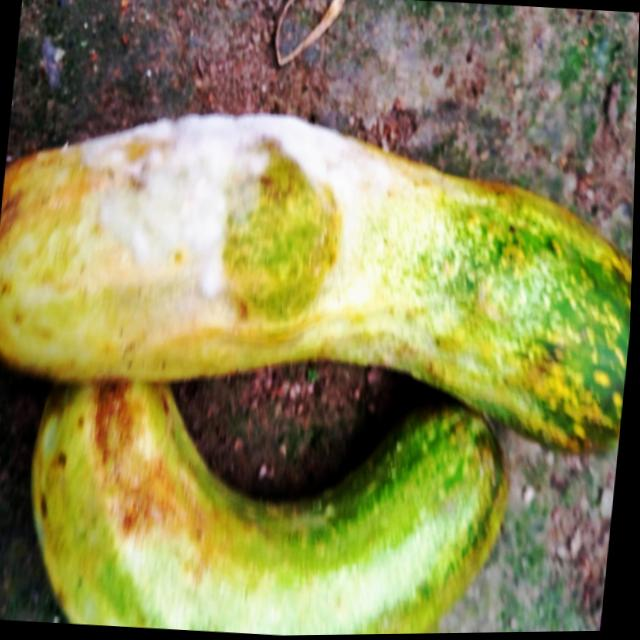Pythium-Fruit-Rot: (71, 95, 386, 321)
